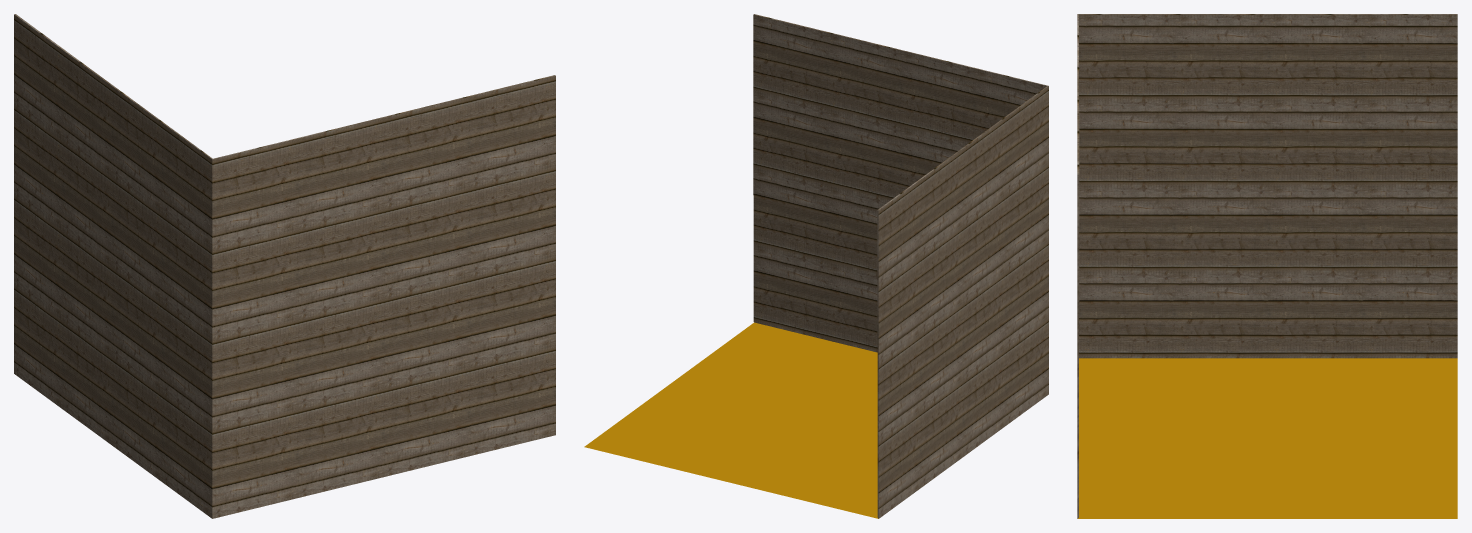
Rendered from house.glb.
3 renders of one model, left to right at view 1: azimuth 30°, elevation 25°; view 2: azimuth 150°, elevation 25°; view 3: azimuth 270°, elevation 25°, orthographic. The views are drawn at different scales.
Visible parts, largest first — view 1: Hause; view 2: Hause, FloorHause; view 3: Hause, FloorHause.
Part boxes in pixels (bbox=[...]): Hause: bbox=[14, 14, 555, 518]; Hause: bbox=[753, 14, 1048, 518]; FloorHause: bbox=[584, 322, 878, 518]; Hause: bbox=[1077, 14, 1457, 518]; FloorHause: bbox=[1078, 358, 1457, 518].
Bounding box in the file's own units: 3 × 3 × 3.
2 materials, 1 textured.
